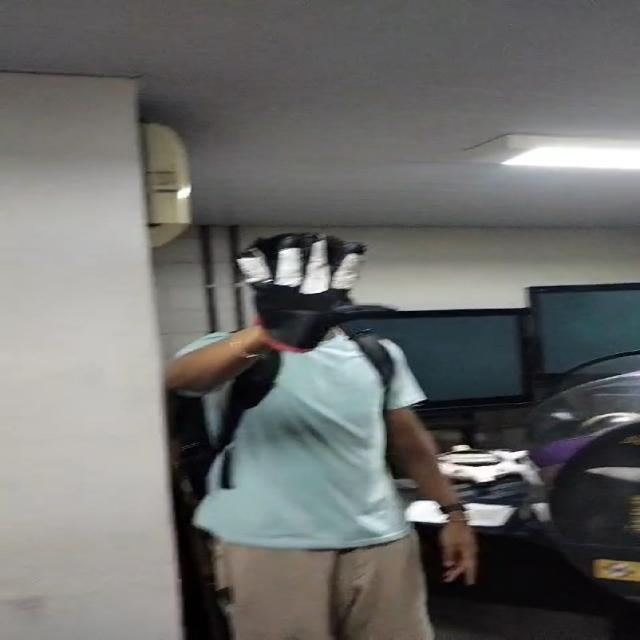Gloves: (244, 237, 388, 348)
